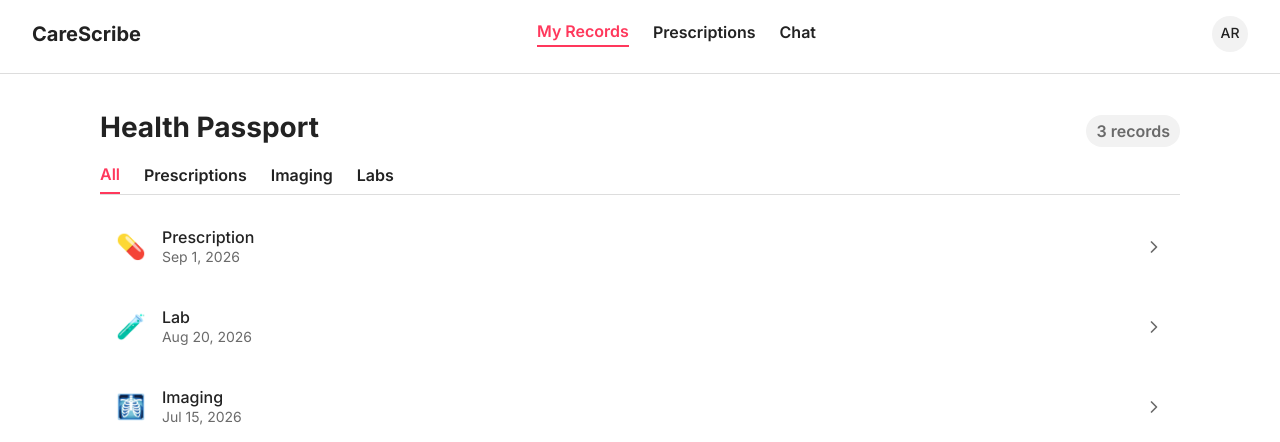
Test: health passport › filters to prescriptions only
The width and height of the screenshot is (1280, 442).
Click the tab "Prescriptions": (195, 179) top-left (144, 164), bottom-right (247, 194)
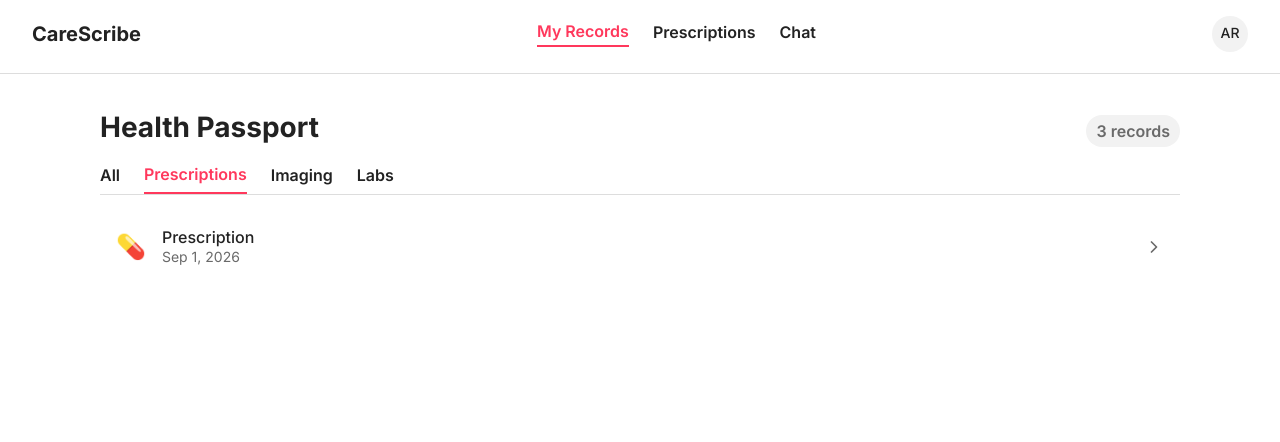
Expected: the number of list items is 1, top-left (100, 211), bottom-right (1180, 283)
